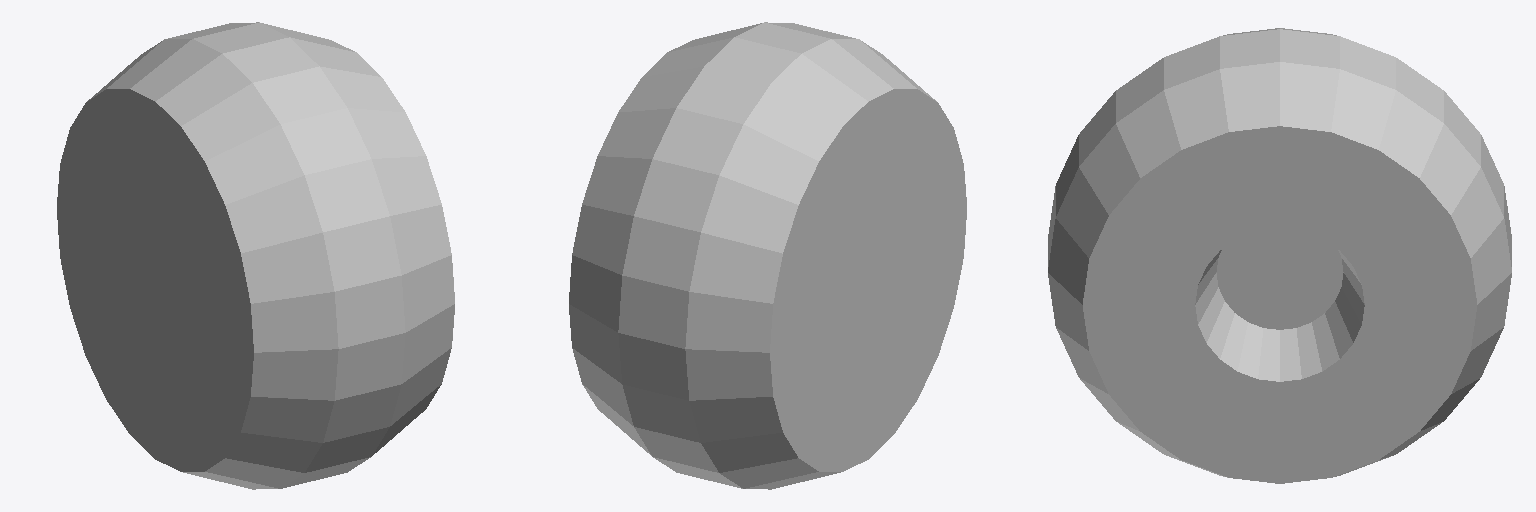
Rendered from llanta_race.obj.
The picture shows the model from 3 angles: view 1: azimuth 30°, elevation 25°; view 2: azimuth 150°, elevation 25°; view 3: azimuth 270°, elevation 25°; orthographic projection.
Visible parts, largest first — view 1: race.001; view 2: race.001; view 3: race.001.
Boxes of the visible parts, x1=… form: race.001: x1=57, y1=22, x2=454, y2=489; race.001: x1=569, y1=22, x2=966, y2=489; race.001: x1=1048, y1=28, x2=1511, y2=483.
Size of the model in its own units: 0.3 by 0.6 by 0.6.